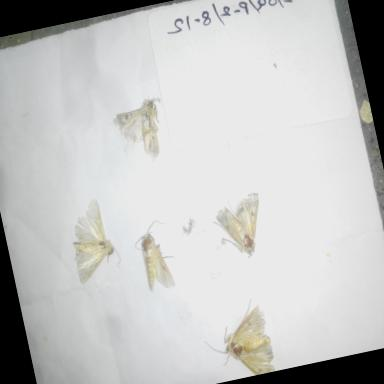abw: (192, 290, 280, 384), (60, 192, 124, 291), (204, 184, 275, 268), (127, 213, 185, 298), (110, 92, 170, 166)
